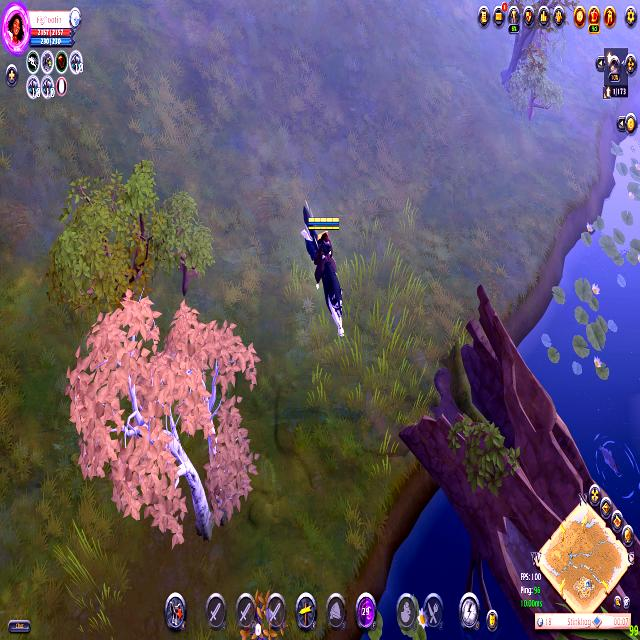red: (61, 286, 271, 550), (287, 192, 355, 347)
